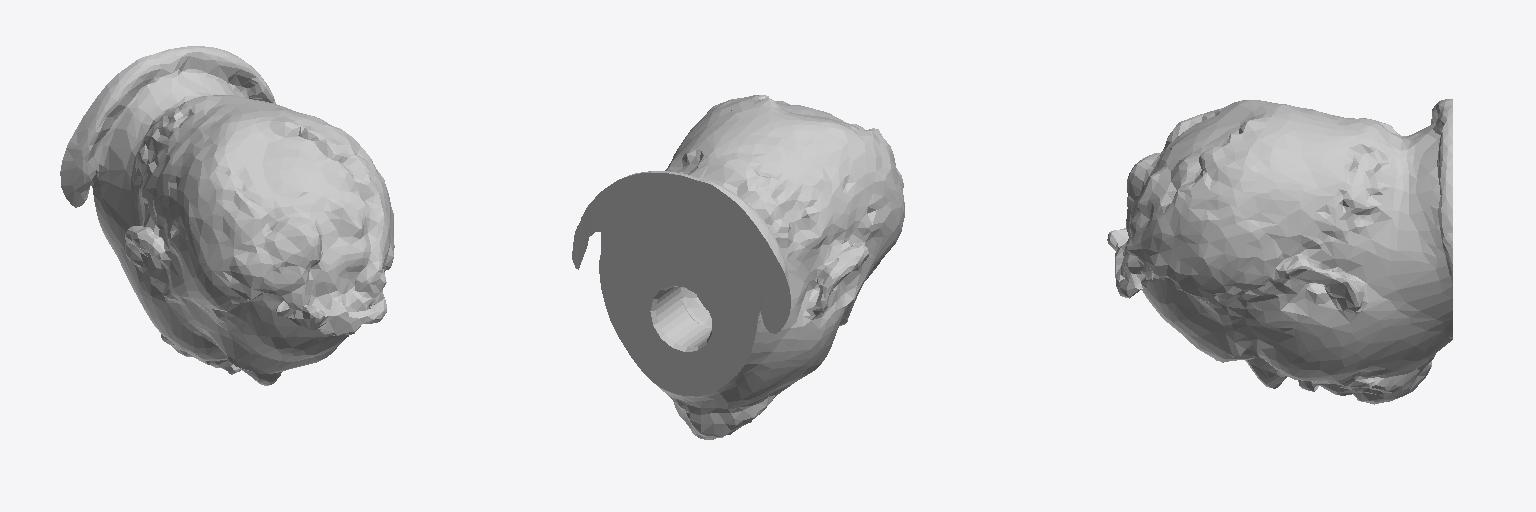
Rendered from 49316-face_QEM_50pct.obj.
3 views of the same model, side by side, from view 1: azimuth 30°, elevation 25°; view 2: azimuth 150°, elevation 25°; view 3: azimuth 270°, elevation 25° (orthographic).
Bounding box in the file's own units: 0.7315 × 0.918 × 1.